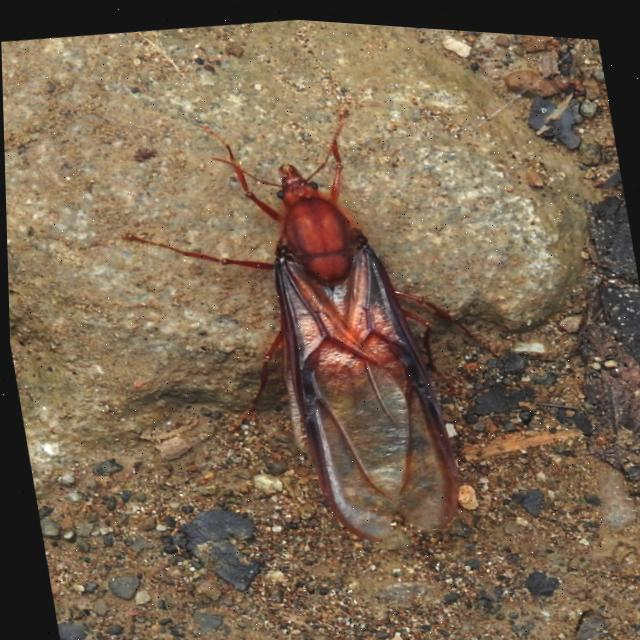Alive-Male-Alate: (103, 74, 530, 583)
